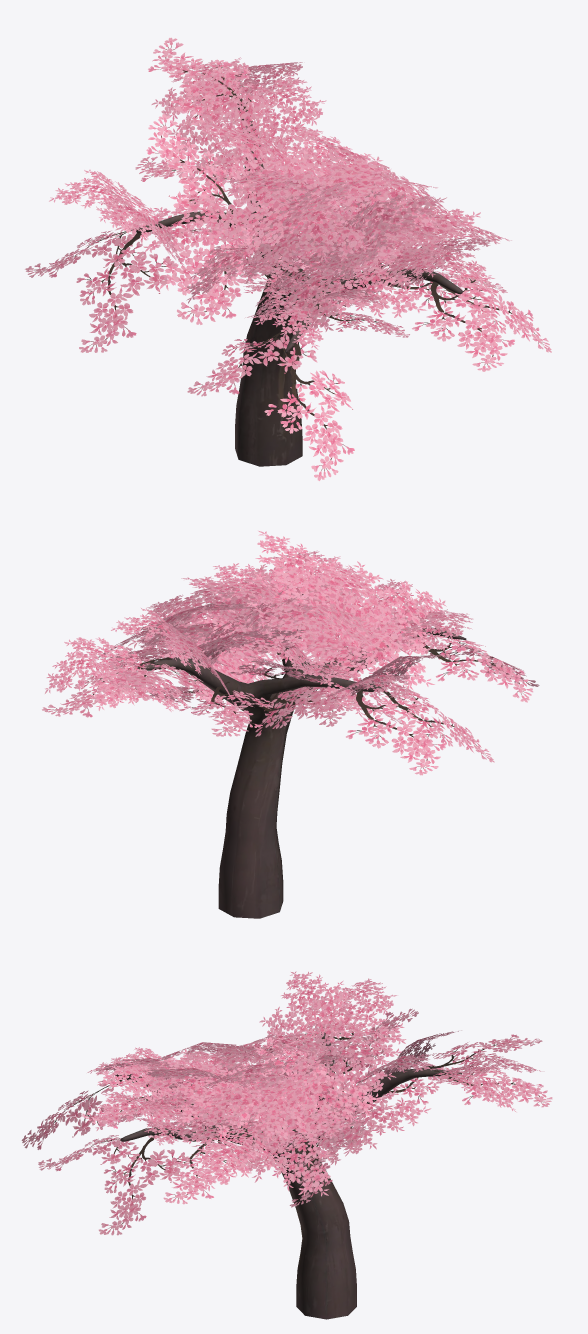
The picture shows the model from 3 angles, top to bottom: view 1: azimuth 30°, elevation 25°; view 2: azimuth 150°, elevation 25°; view 3: azimuth 270°, elevation 25°; orthographic projection. The views are drawn at different scales.
Parts seen in each view (by area): view 1: body0_model0_lod0_mesh2, body0_model0_lod0_mesh1, body0_model0_lod0_mesh0; view 2: body0_model0_lod0_mesh2, body0_model0_lod0_mesh1, body0_model0_lod0_mesh0; view 3: body0_model0_lod0_mesh2, body0_model0_lod0_mesh1, body0_model0_lod0_mesh0.
Boxes of the visible parts, box(x1,y1,x2,y2) form: body0_model0_lod0_mesh2: box(49, 57, 511, 349); body0_model0_lod0_mesh1: box(25, 37, 551, 480); body0_model0_lod0_mesh0: box(136, 98, 462, 466); body0_model0_lod0_mesh2: box(45, 530, 473, 724); body0_model0_lod0_mesh1: box(42, 591, 539, 775); body0_model0_lod0_mesh0: box(134, 587, 466, 918); body0_model0_lod0_mesh2: box(87, 971, 544, 1196); body0_model0_lod0_mesh1: box(21, 1008, 552, 1235); body0_model0_lod0_mesh0: box(115, 1026, 461, 1319).
Size of the model in its own units: 32.39 by 23.55 by 39.51.
Materials: 3 (3 with a texture image).
